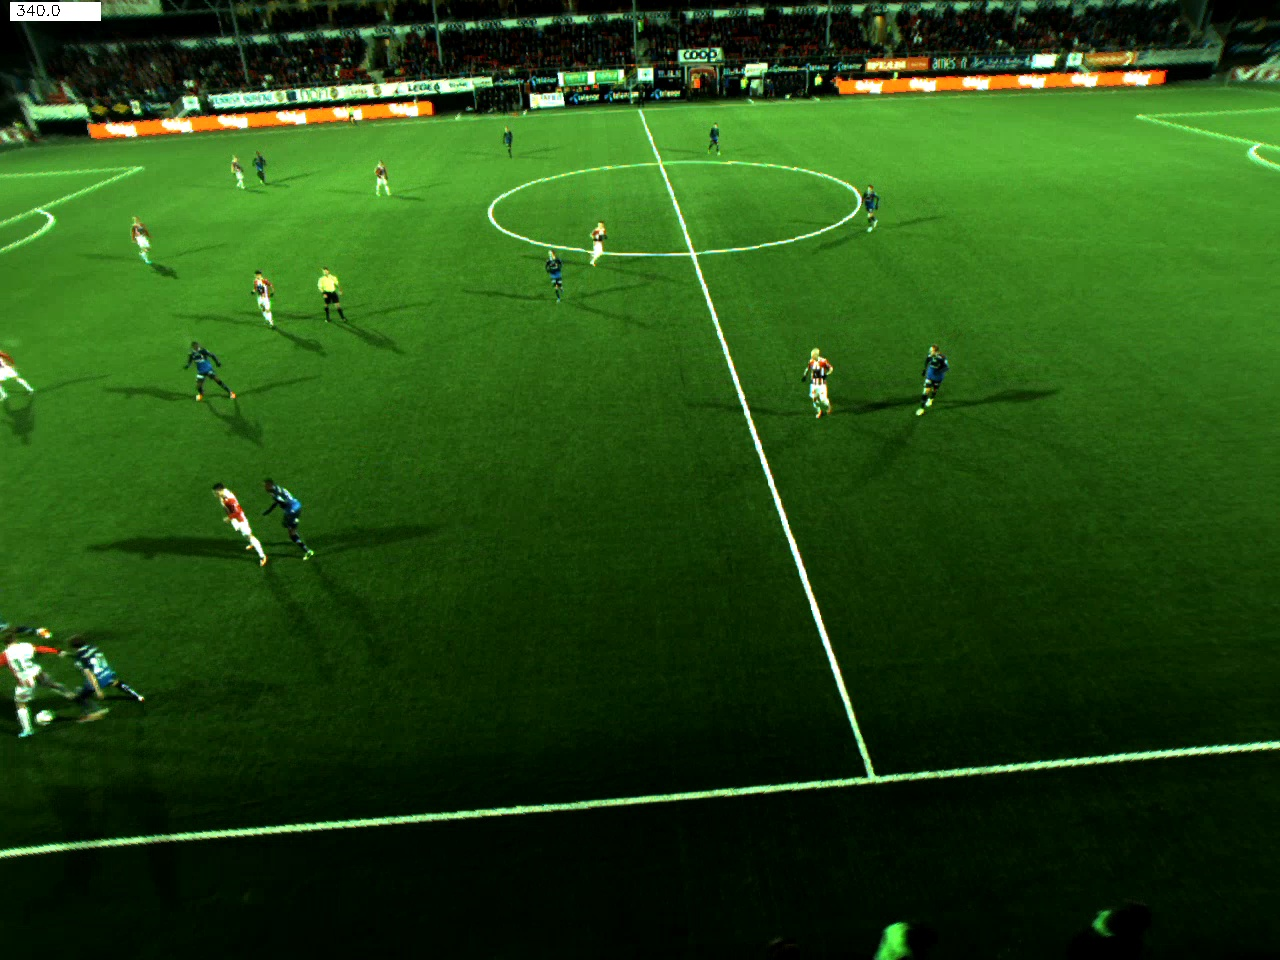blue: (62, 631, 162, 734), (260, 475, 331, 573), (178, 332, 239, 409), (913, 344, 953, 421), (859, 174, 892, 252), (531, 244, 574, 296), (495, 123, 523, 159), (705, 124, 728, 159), (251, 152, 273, 187)
red: (203, 474, 271, 581), (2, 634, 59, 746), (796, 346, 839, 424), (131, 210, 169, 280), (248, 270, 283, 341), (1, 339, 33, 399), (363, 162, 398, 210), (224, 146, 251, 196), (581, 217, 605, 271)
yellow: (313, 263, 355, 327)
